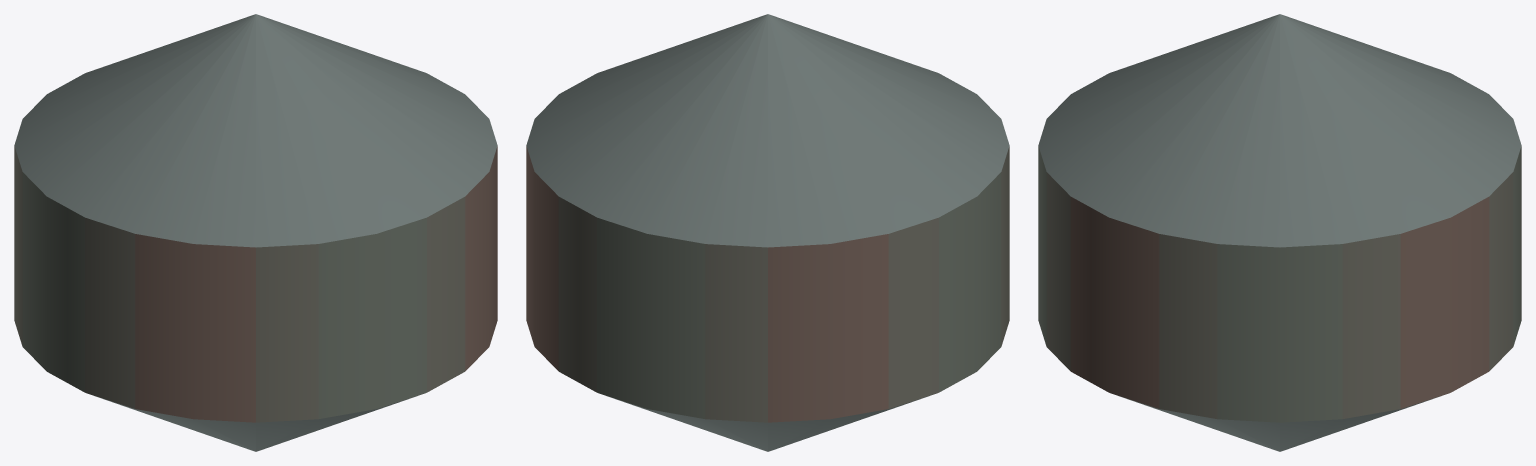
The model's file is Cylinder_Pointed.fbx.
The picture shows the model from 3 angles, left to right: view 1: azimuth 30°, elevation 25°; view 2: azimuth 150°, elevation 25°; view 3: azimuth 270°, elevation 25°; orthographic projection.
Visible parts, largest first — view 1: Mesh; view 2: Mesh; view 3: Mesh.
Part boxes in pixels (x1,y1,x2,y2): Mesh: (14, 14, 497, 451); Mesh: (526, 14, 1009, 451); Mesh: (1038, 14, 1521, 451).
Size of the model in its own units: 100 by 100 by 100.
